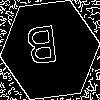B: (25, 25, 60, 75)
